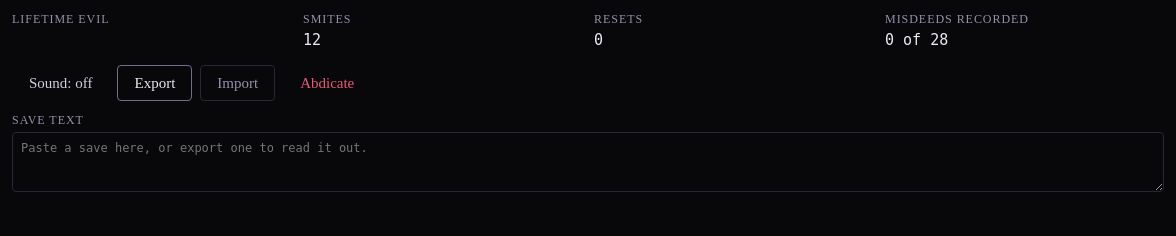
Test: Ledger › reads the save out on export
Click the button "Export": (155, 83) [118, 65, 192, 101]
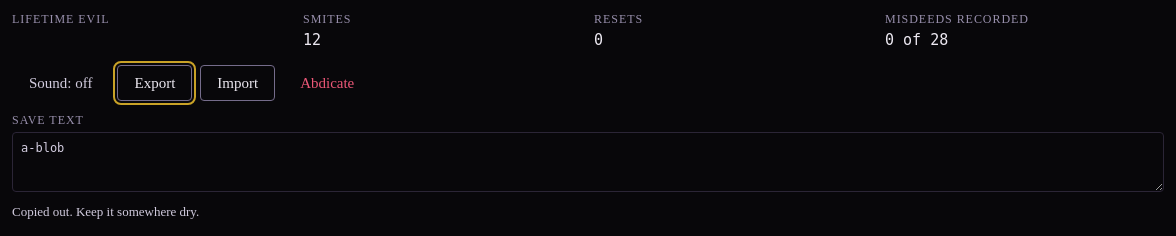
Result: the text box labelled "Save text" holds "a-blob" at [12, 132, 1164, 192]
